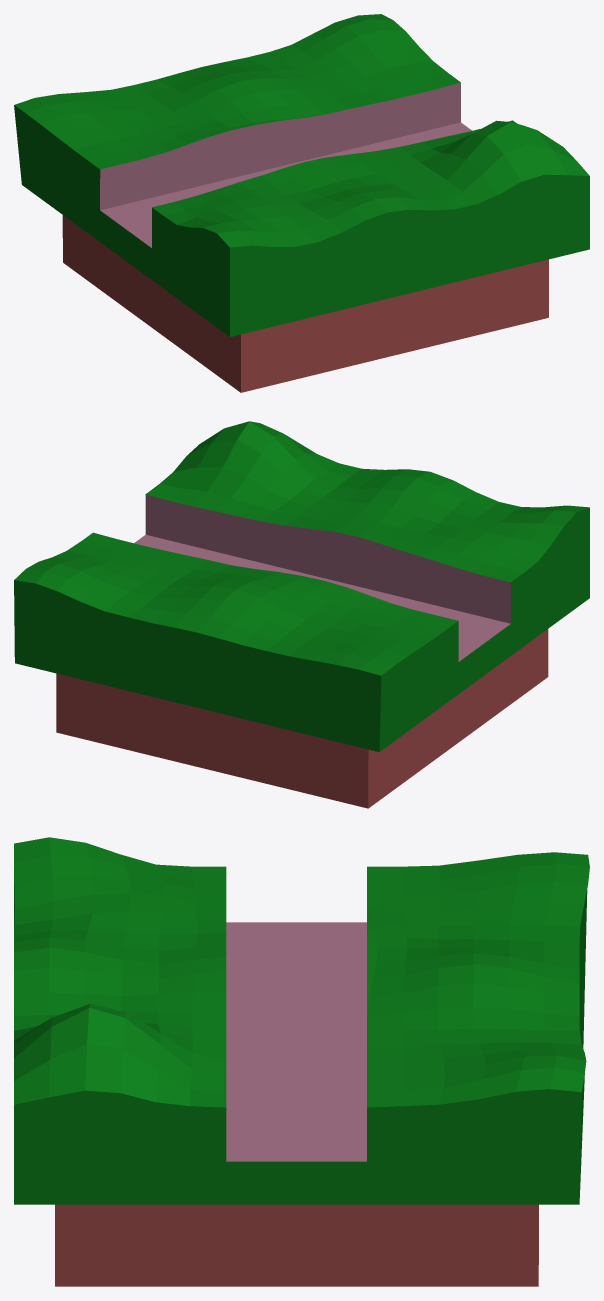
The picture shows the model from 3 angles, top to bottom: view 1: azimuth 30°, elevation 25°; view 2: azimuth 150°, elevation 25°; view 3: azimuth 270°, elevation 25°; orthographic projection. The views are drawn at different scales.
Visible parts, largest first — view 1: Cube; view 2: Cube; view 3: Cube.
Part boxes in pixels (box(x1,y1,x2,y2)): Cube: box(14, 14, 589, 392); Cube: box(14, 421, 589, 808); Cube: box(14, 837, 589, 1286).
Bounding box in the file's own units: 48.76 × 24.46 × 48.73.
